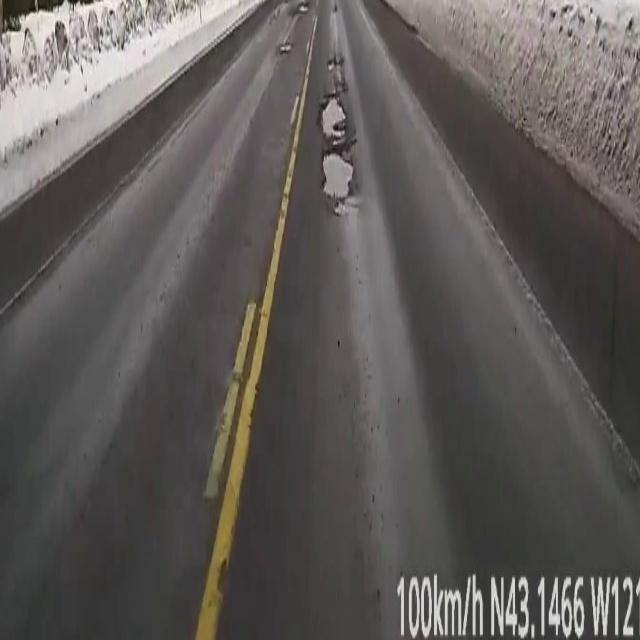pothole: (320, 52, 356, 214), (277, 40, 293, 59), (297, 0, 310, 8)
